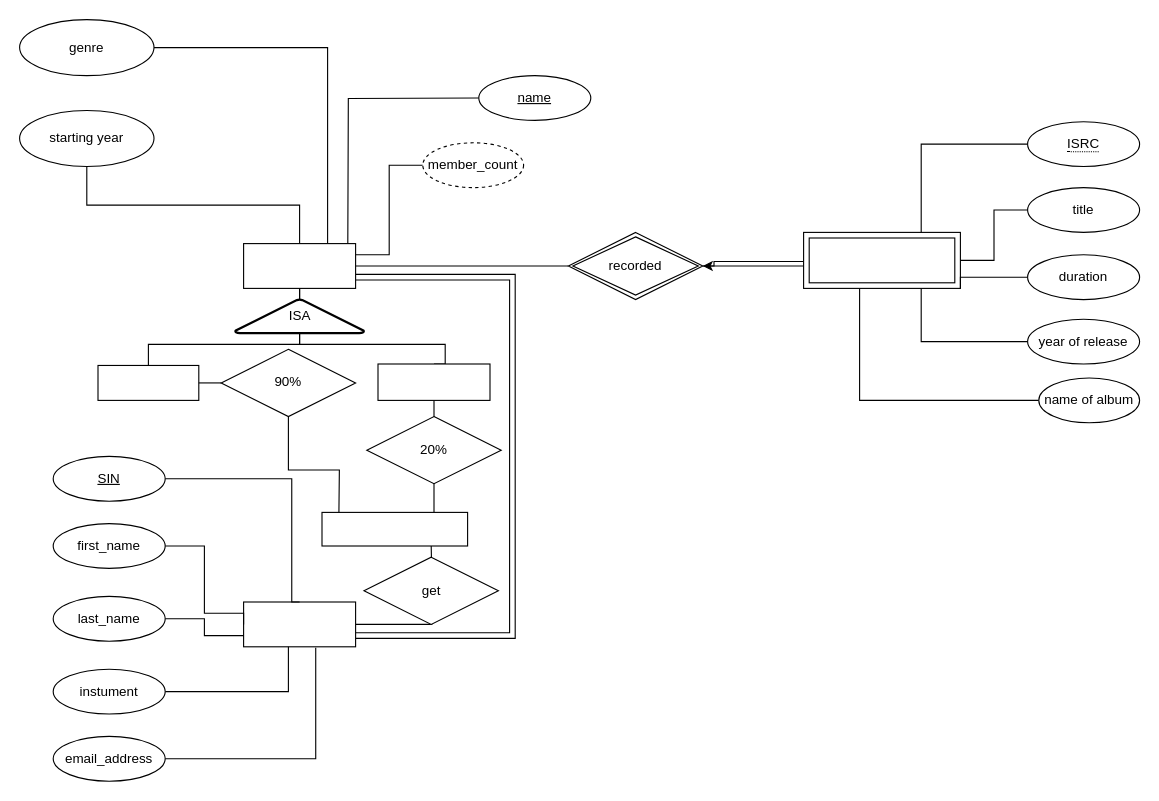
Image size: 1159x801. Some labels were removed from this diagram. Here are the shapes that lost their labels. From the top down, the box of each, then its label:
(242, 242, 356, 288): aritist
(802, 231, 960, 288): song
(97, 364, 199, 400): individual
(377, 363, 490, 400): band
(321, 511, 468, 546): revenue
(242, 601, 356, 647): Musician
